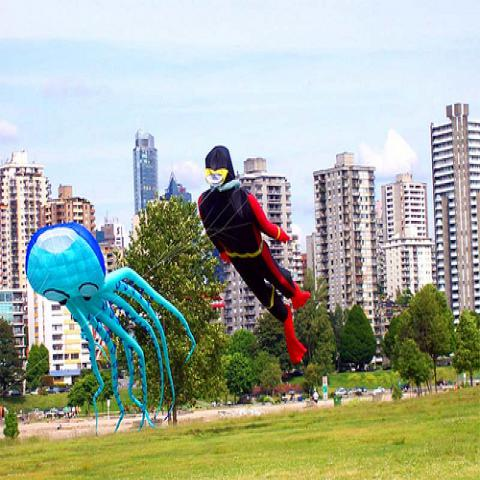car: (334, 386, 350, 397), (440, 382, 456, 391), (373, 386, 387, 396)
